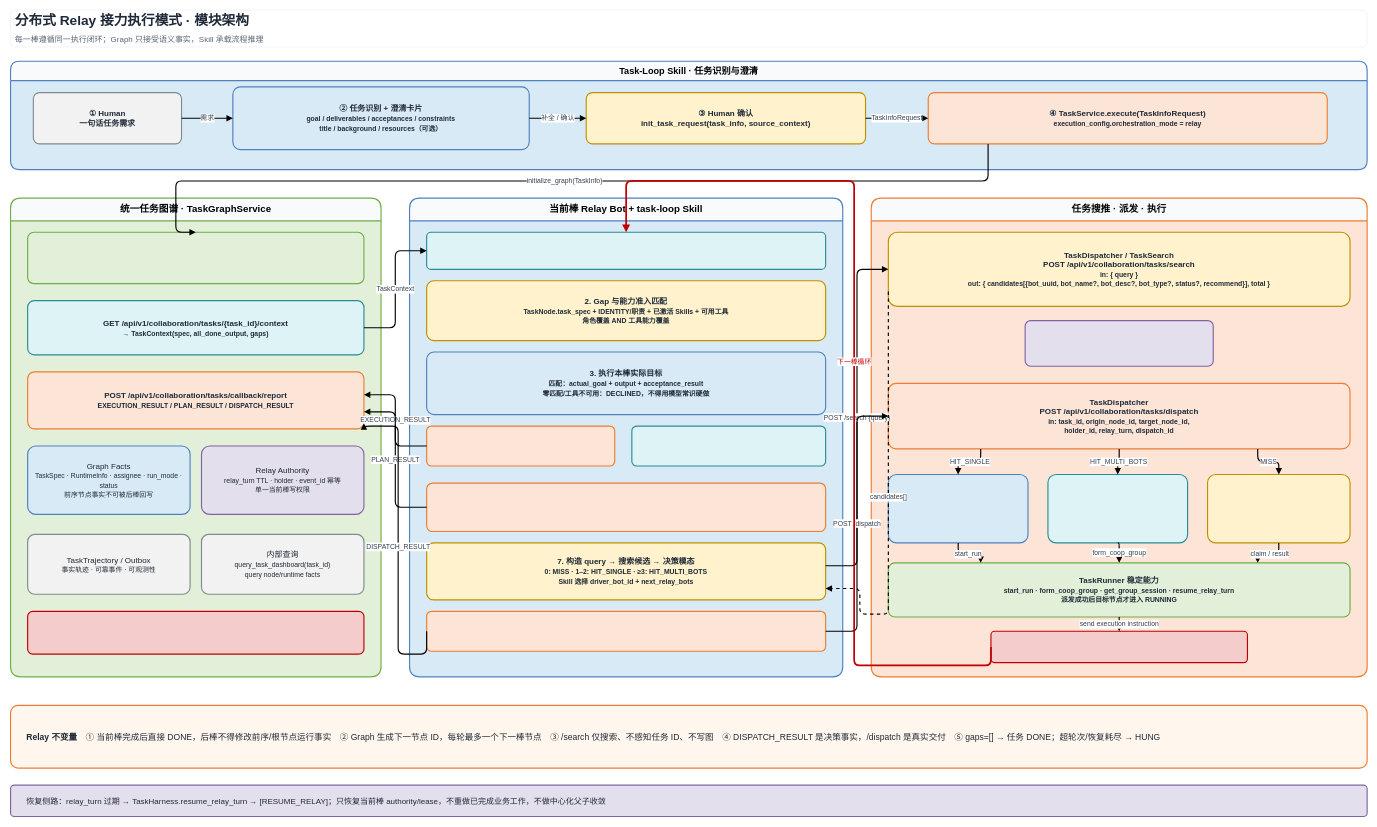
The diagram is 1377 pixels wide and 827 high, and some of its shapes have lost their labels. Here are the shapes that lost their labels. From the top down, the centre of each, then its label:
At point (195, 257): "initialize_graph(TaskInfo) 创建根 TaskNode；首棒 owner_bot RUNNING".
At point (626, 250): "1. 读取最新 TaskContext".
At point (1119, 343): "Skill 决策并上报 DISPATCH_RESULT".
At point (520, 445): "4. 上报 EXECUTION_RESULT".
At point (728, 445): "5. 重读上下文并计算新 gaps all_done_output + 节点 acceptance_result → Skill 语义推理".
At point (626, 507): "6. 上报 PLAN_RESULT gaps=[] → 完成 gaps≠[] → exactly one next_task_spec".
At point (957, 508): "HIT_SINGLE 单 Bot Runner driver = only next relay bot".
At point (1117, 508): "HIT_MULTI_BOTS 协作群 Runner driver + workers Human observer 当前棒默认不入群".
At point (1278, 508): "MISS BBS 执行模态 POST /bbs/claim POST /bbs/result".
At point (195, 632): "唯一事实写入口 所有节点状态与运行事实统一经 TaskGraphService.report 更新".
At point (626, 631): "8. 上报 DISPATCH_RESULT → 调用 /dispatch".
At point (1119, 646): "下一棒 Bot(s) 接棒 重复同一 Relay Skill 闭环".
